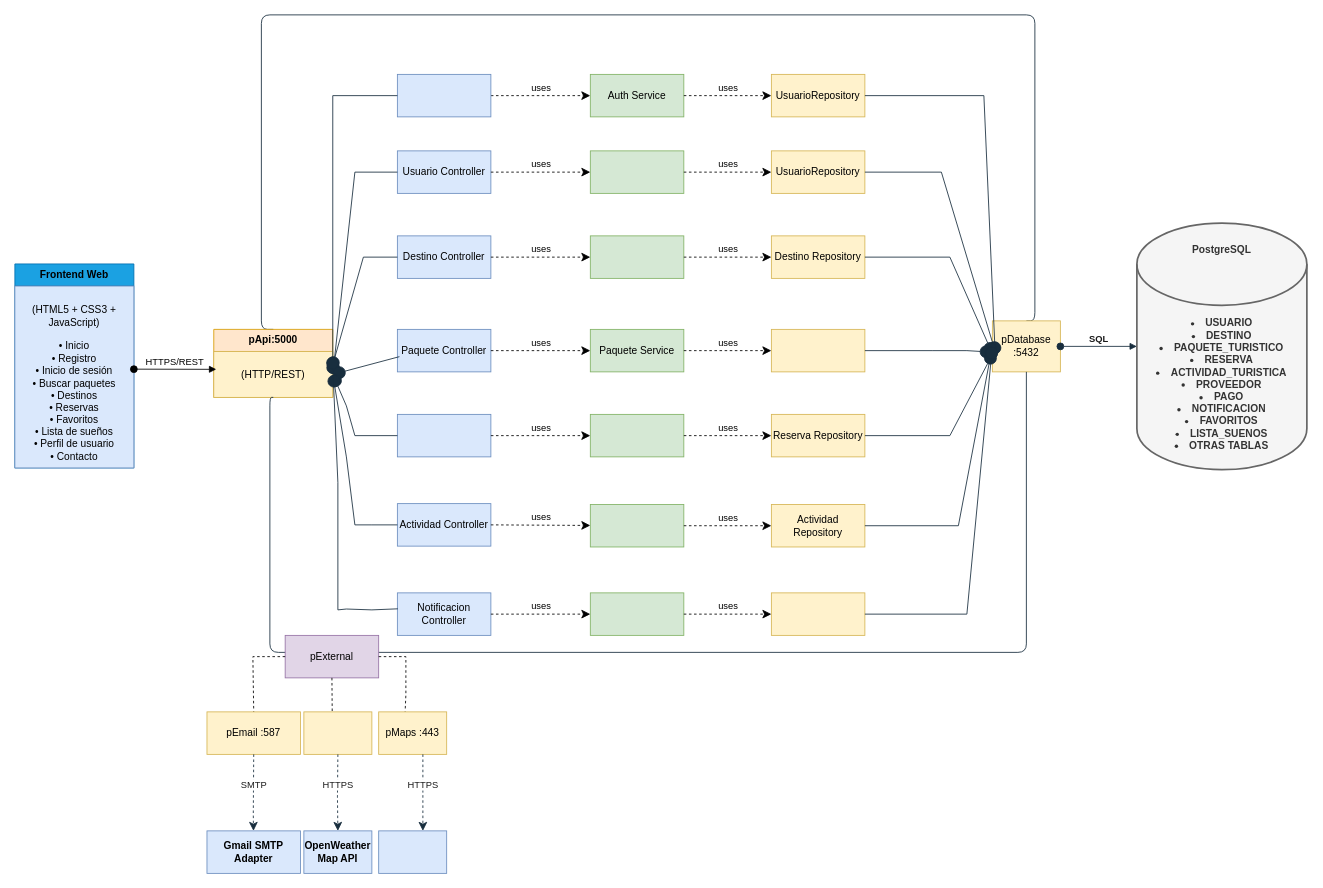
The diagram is 1323 pixels wide and 888 high, and some of its shapes have lost their labels. The shapes that lost their labels are listed below. From the top down, each one's centre as x and y in pixels, then its label:
At pixel 444 95: "Auth Controller".
At pixel 636 171: "Usuario Service".
At pixel 636 256: "Destino Service".
At pixel 818 350: "Paquete Repository".
At pixel 444 435: "Reserva Controller".
At pixel 636 435: "Reserva Service".
At pixel 636 525: "Actividad Service".
At pixel 636 613: "Notificacion Service".
At pixel 818 613: "Notificacion Repository".
At pixel 337 732: "pWeather :443".
At pixel 412 851: "Google Maps".
